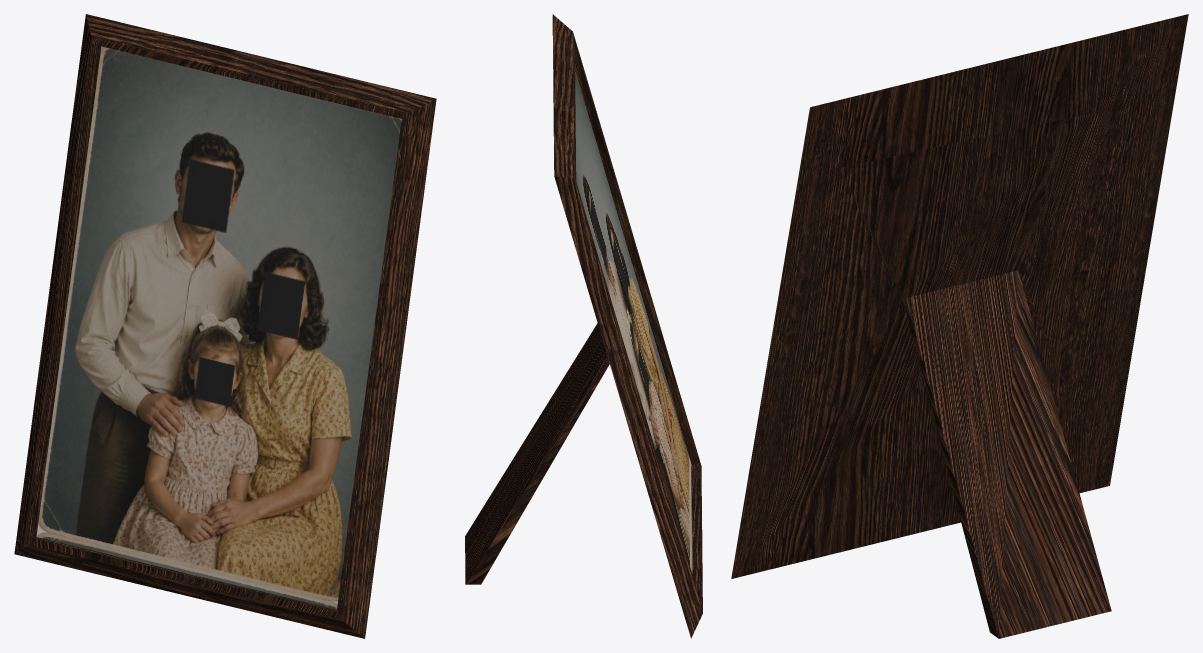
File: wall_frame_02.glb
The picture shows the model from 3 angles, left to right: view 1: azimuth 30°, elevation 25°; view 2: azimuth 150°, elevation 25°; view 3: azimuth 270°, elevation 25°; orthographic projection. The views are drawn at different scales.
Parts seen in each view (by area): view 1: WallFrame02Mesh; view 2: WallFrame02Mesh; view 3: WallFrame02Mesh.
Boxes of the visible parts, x1,y1,x2,y2 form: WallFrame02Mesh: (14,14,436,638); WallFrame02Mesh: (465,14,702,638); WallFrame02Mesh: (731,14,1188,638).
Size of the model in its own units: 0.0917 by 0.147 by 0.1152.
2 materials, 2 textured.
